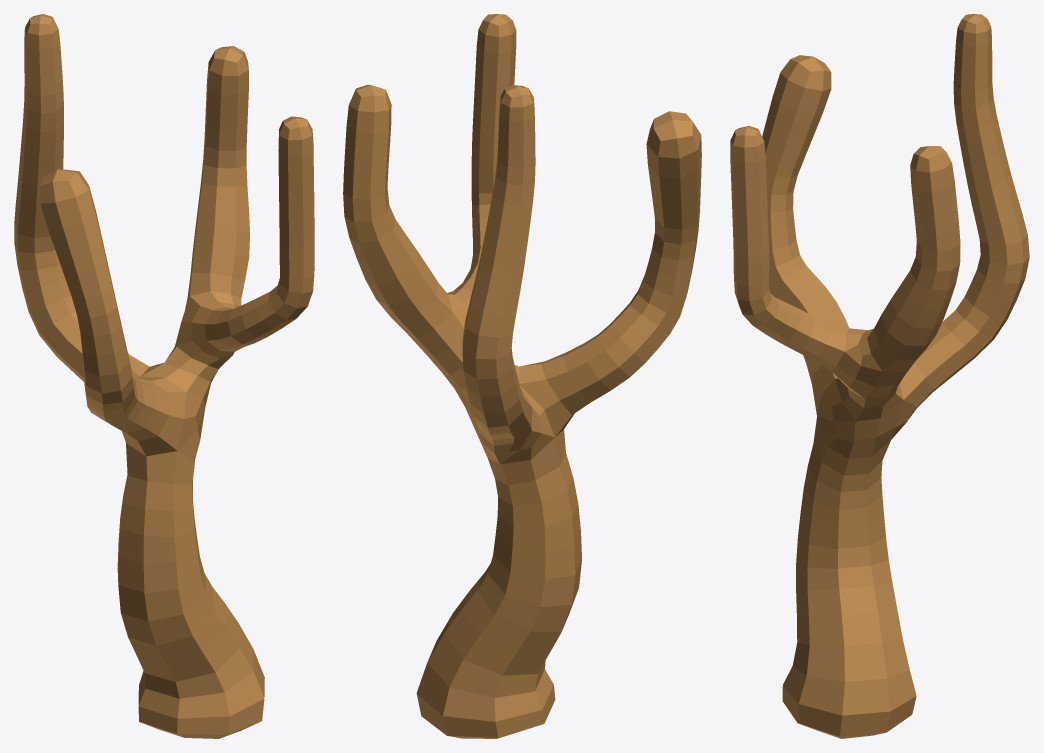
File: besar2.fbx
3 views of the same model, side by side, from view 1: azimuth 30°, elevation 25°; view 2: azimuth 150°, elevation 25°; view 3: azimuth 270°, elevation 25° (orthographic). The views are drawn at different scales.
Visible parts, largest first — view 1: Object_11; view 2: Object_11; view 3: Object_11.
Part boxes in pixels (x1,y1,x2,y2): Object_11: (14, 14, 314, 738); Object_11: (343, 14, 701, 738); Object_11: (730, 14, 1029, 738).
Size of the model in its own units: 99.27 by 240 by 97.62.
